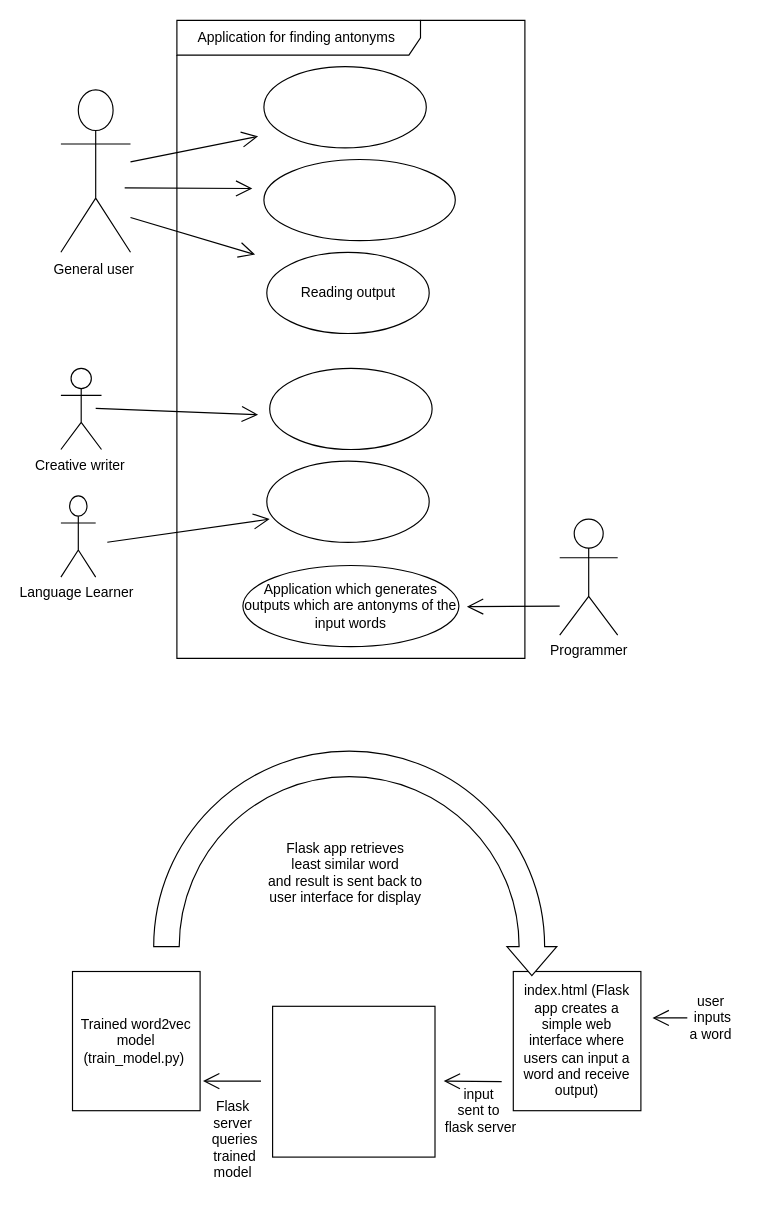
The diagram is 766 pixels wide and 1212 high, and some of its shapes have lost their labels. Each missing label, with the centre of its shape:
"Finding words to create contrasting imagery" belongs at (350,408).
"Flask Application (least_similar_words.py)" belongs at (353,1081).
"Loading the app" belongs at (344,107).
"Typing word (input) into app and pressing 'find' button" belongs at (359,199).
"Using outputs to build vocabulary" belongs at (347,501).
